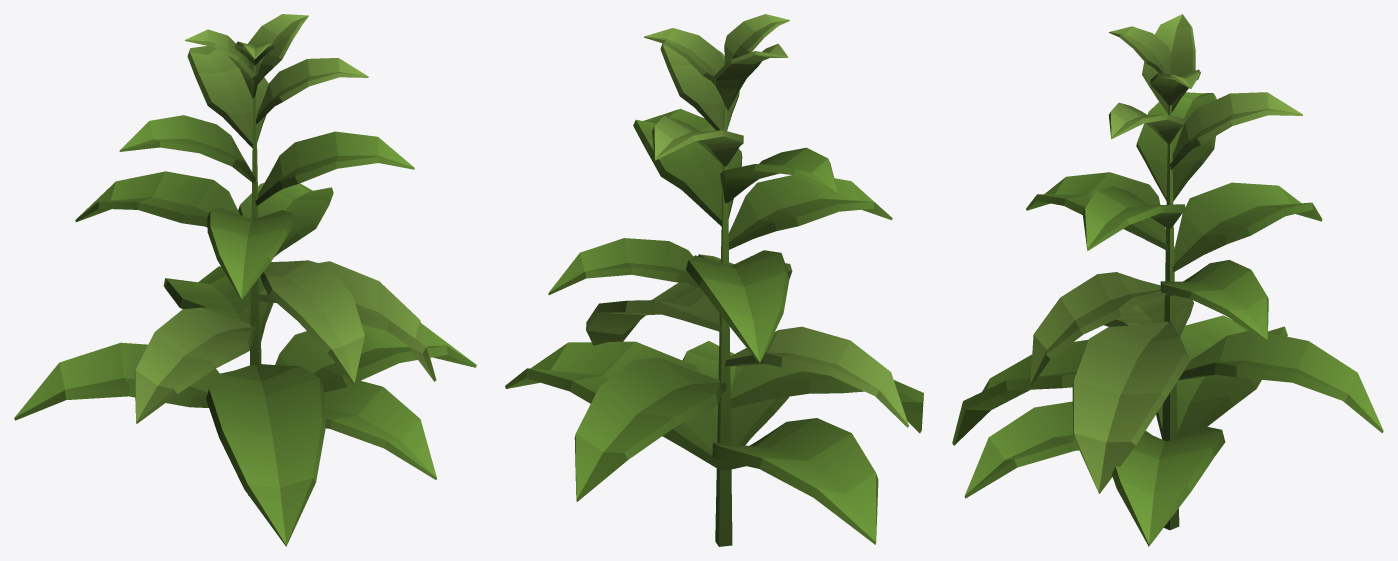
File: Cavern_ShrubTall-01.fbx
3 renders of one model, left to right at view 1: azimuth 30°, elevation 25°; view 2: azimuth 150°, elevation 25°; view 3: azimuth 270°, elevation 25°, orthographic. The views are drawn at different scales.
Visible parts, largest first — view 1: Cavern_ShrubTall-01; view 2: Cavern_ShrubTall-01; view 3: Cavern_ShrubTall-01.
Part boxes in pixels (x1,y1,x2,y2): Cavern_ShrubTall-01: (14, 14, 476, 546); Cavern_ShrubTall-01: (505, 14, 923, 546); Cavern_ShrubTall-01: (952, 14, 1383, 546).
Size of the model in its own units: 144 by 161 by 130.
Materials: 1 (1 with a texture image).
